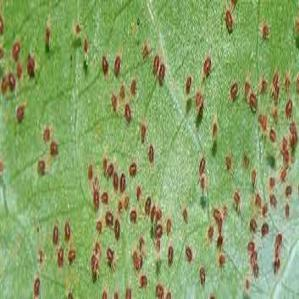spider mite: (23, 273, 49, 299), (146, 52, 168, 78), (209, 206, 229, 231), (120, 102, 138, 128), (124, 72, 140, 100), (102, 90, 121, 113), (88, 254, 104, 281), (94, 52, 113, 74), (221, 7, 238, 31), (30, 158, 49, 179), (198, 54, 216, 76), (16, 102, 30, 130), (282, 200, 298, 224), (226, 188, 245, 208), (112, 217, 126, 244), (136, 120, 150, 146), (188, 90, 206, 110), (252, 111, 268, 133), (208, 119, 221, 146), (60, 222, 77, 242), (91, 238, 108, 258), (163, 238, 176, 264), (140, 194, 154, 218), (143, 142, 158, 164), (227, 78, 242, 100), (107, 246, 122, 268), (248, 262, 266, 280), (68, 19, 85, 38), (245, 87, 259, 110), (4, 72, 20, 92), (221, 154, 237, 174), (154, 238, 166, 264), (258, 74, 272, 96), (270, 231, 287, 249), (39, 27, 55, 46), (180, 244, 196, 263), (181, 75, 196, 95), (146, 203, 158, 228), (90, 216, 105, 236), (254, 22, 270, 40), (258, 222, 274, 240), (241, 236, 257, 254), (196, 176, 212, 194), (284, 98, 299, 117), (24, 55, 37, 76), (240, 74, 253, 95), (8, 43, 24, 60), (274, 151, 292, 166), (201, 226, 216, 244), (196, 156, 210, 175), (123, 280, 137, 299), (240, 277, 252, 299), (92, 186, 103, 210), (109, 54, 122, 74), (289, 120, 299, 146), (256, 204, 272, 220), (136, 274, 152, 290), (250, 190, 264, 208), (78, 34, 91, 53), (242, 154, 257, 170), (118, 172, 130, 192), (194, 268, 206, 288), (126, 162, 140, 179), (153, 282, 167, 299), (267, 191, 280, 209), (83, 163, 96, 181), (282, 70, 294, 89), (270, 86, 284, 102), (274, 140, 290, 154), (246, 250, 260, 266), (64, 250, 78, 266), (158, 62, 166, 89), (34, 248, 46, 266), (136, 235, 148, 252), (52, 227, 64, 244), (214, 234, 228, 248), (266, 178, 281, 191), (266, 126, 278, 142), (250, 170, 262, 186), (98, 190, 110, 206), (289, 17, 299, 36), (162, 220, 173, 237), (272, 254, 282, 272), (134, 186, 144, 204), (154, 224, 165, 240), (140, 43, 150, 60), (48, 142, 60, 156), (268, 108, 280, 122), (114, 198, 126, 212), (118, 84, 128, 100), (278, 167, 288, 183), (154, 208, 164, 224), (180, 210, 192, 223), (121, 197, 133, 210), (102, 213, 114, 226), (96, 288, 110, 299), (112, 173, 120, 191), (99, 154, 108, 170), (268, 72, 279, 85), (111, 286, 122, 299), (42, 127, 52, 141), (248, 218, 258, 232), (216, 256, 226, 270), (164, 285, 174, 299), (284, 185, 294, 198), (56, 246, 64, 262), (107, 162, 114, 177)
